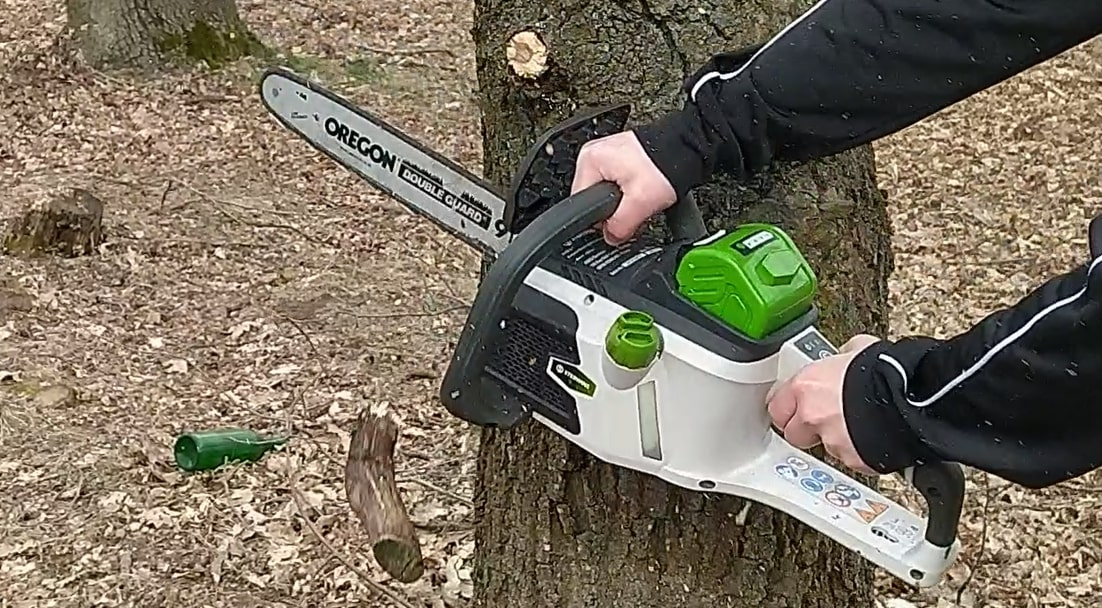chainsaw: (234, 56, 1021, 605)
